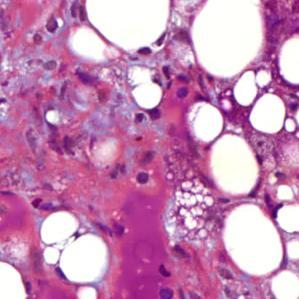steatosis: (221, 203, 285, 276), (251, 92, 289, 135), (128, 77, 165, 113)
